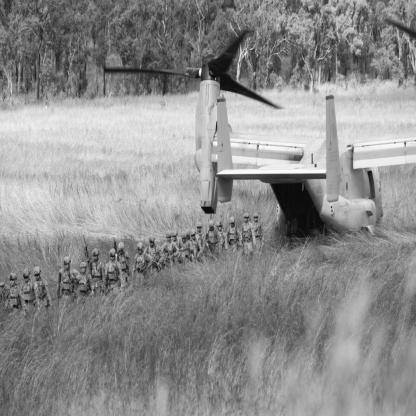V22: (105, 19, 416, 238)
